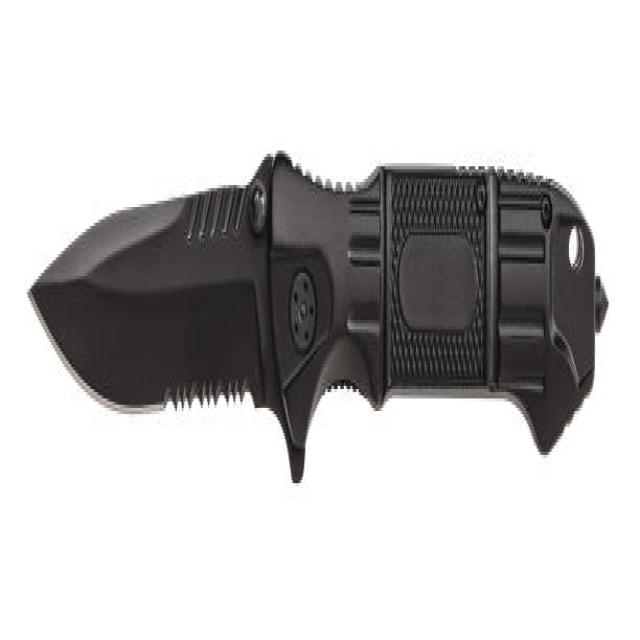knife: (27, 129, 615, 496)
